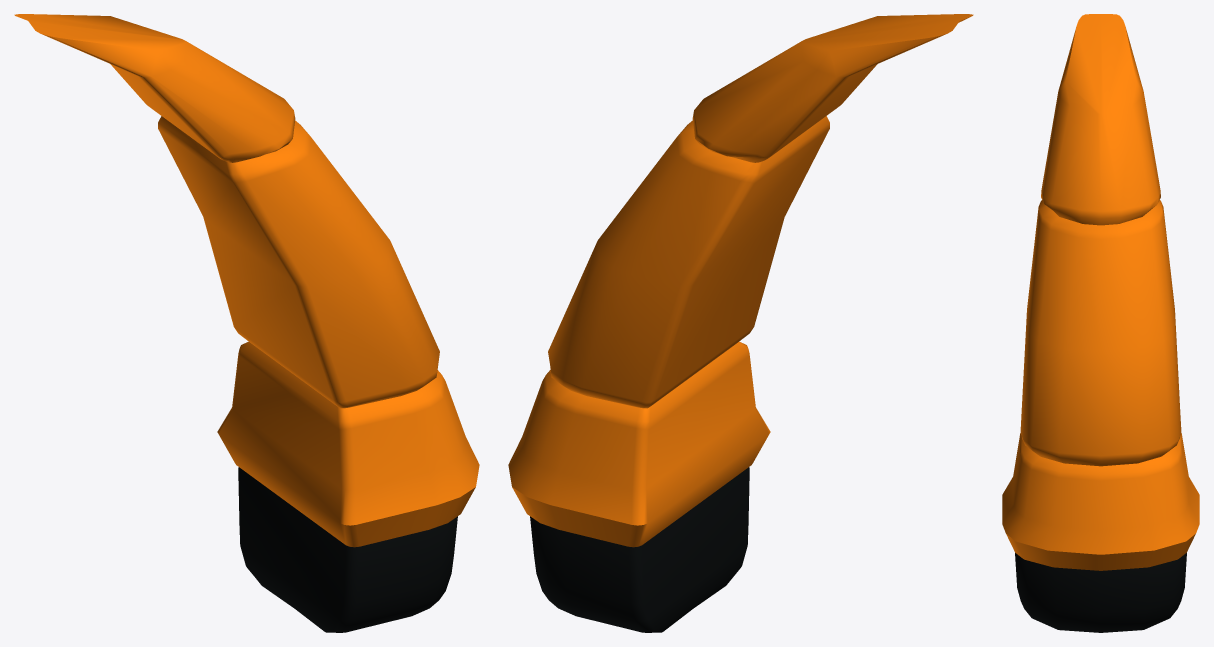
The model's file is character_polarExplorerArmLeft.obj.
3 renders of one model, left to right at view 1: azimuth 30°, elevation 25°; view 2: azimuth 150°, elevation 25°; view 3: azimuth 270°, elevation 25°, orthographic. The views are drawn at different scales.
Visible parts, largest first — view 1: character_polarExplorerArmLeft_Cube.4629; view 2: character_polarExplorerArmLeft_Cube.4629; view 3: character_polarExplorerArmLeft_Cube.4629.
Part boxes in pixels (x1,y1,x2,y2): character_polarExplorerArmLeft_Cube.4629: (14,14,479,632); character_polarExplorerArmLeft_Cube.4629: (508,14,973,632); character_polarExplorerArmLeft_Cube.4629: (1002,14,1199,632).
Size of the model in its own units: 0.3915 by 0.5708 by 0.2092.
